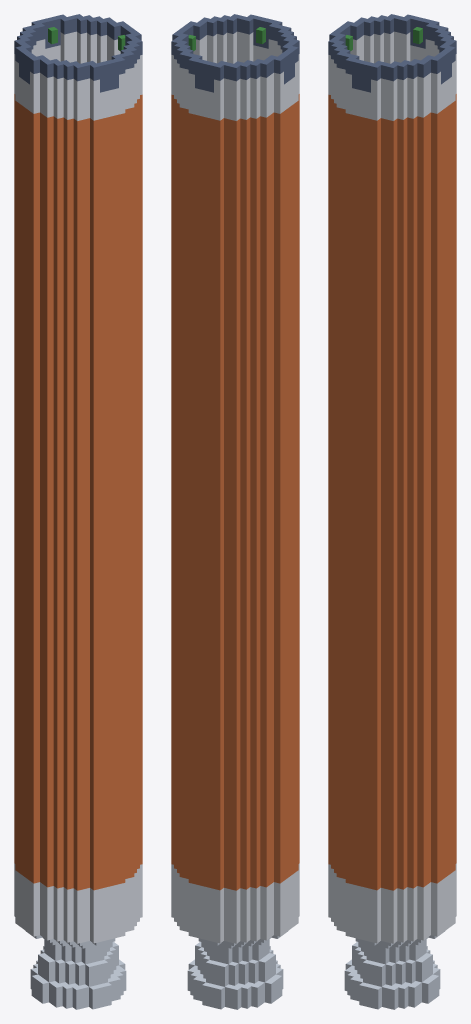
The model's file is Sun_V_first_stage.obj.
3 renders of one model, left to right at view 1: azimuth 30°, elevation 25°; view 2: azimuth 150°, elevation 25°; view 3: azimuth 330°, elevation 25°, orthographic.
Bounding box in the file's own units: 1.7 × 14.3 × 1.7.
1 material, 1 textured.
